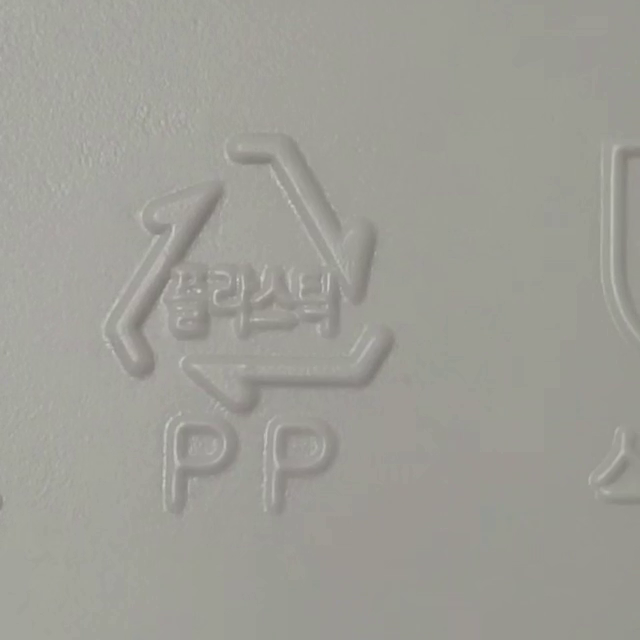Plastic: (106, 134, 391, 412)
